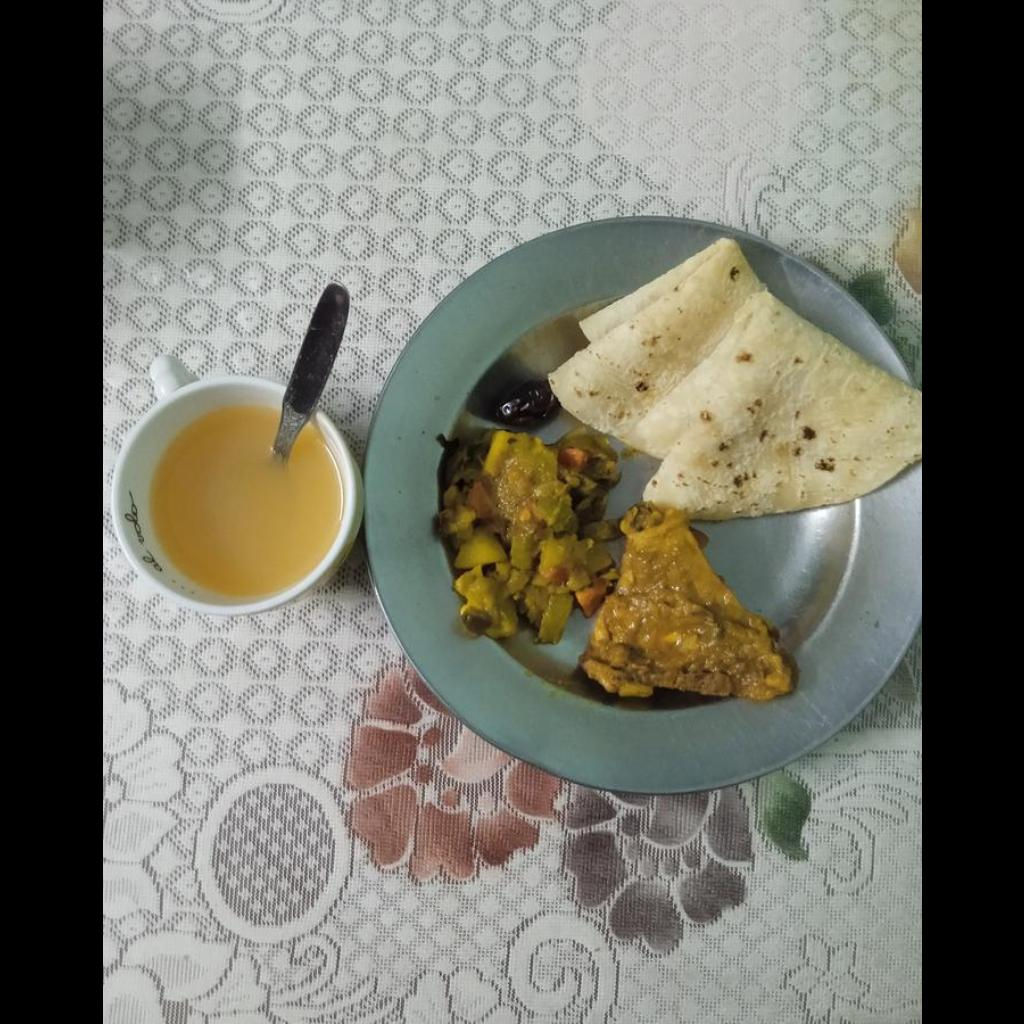chicken: (581, 519, 787, 694)
juice: (153, 410, 344, 593)
ruti: (546, 234, 920, 511)
vegetable: (443, 441, 605, 632)
